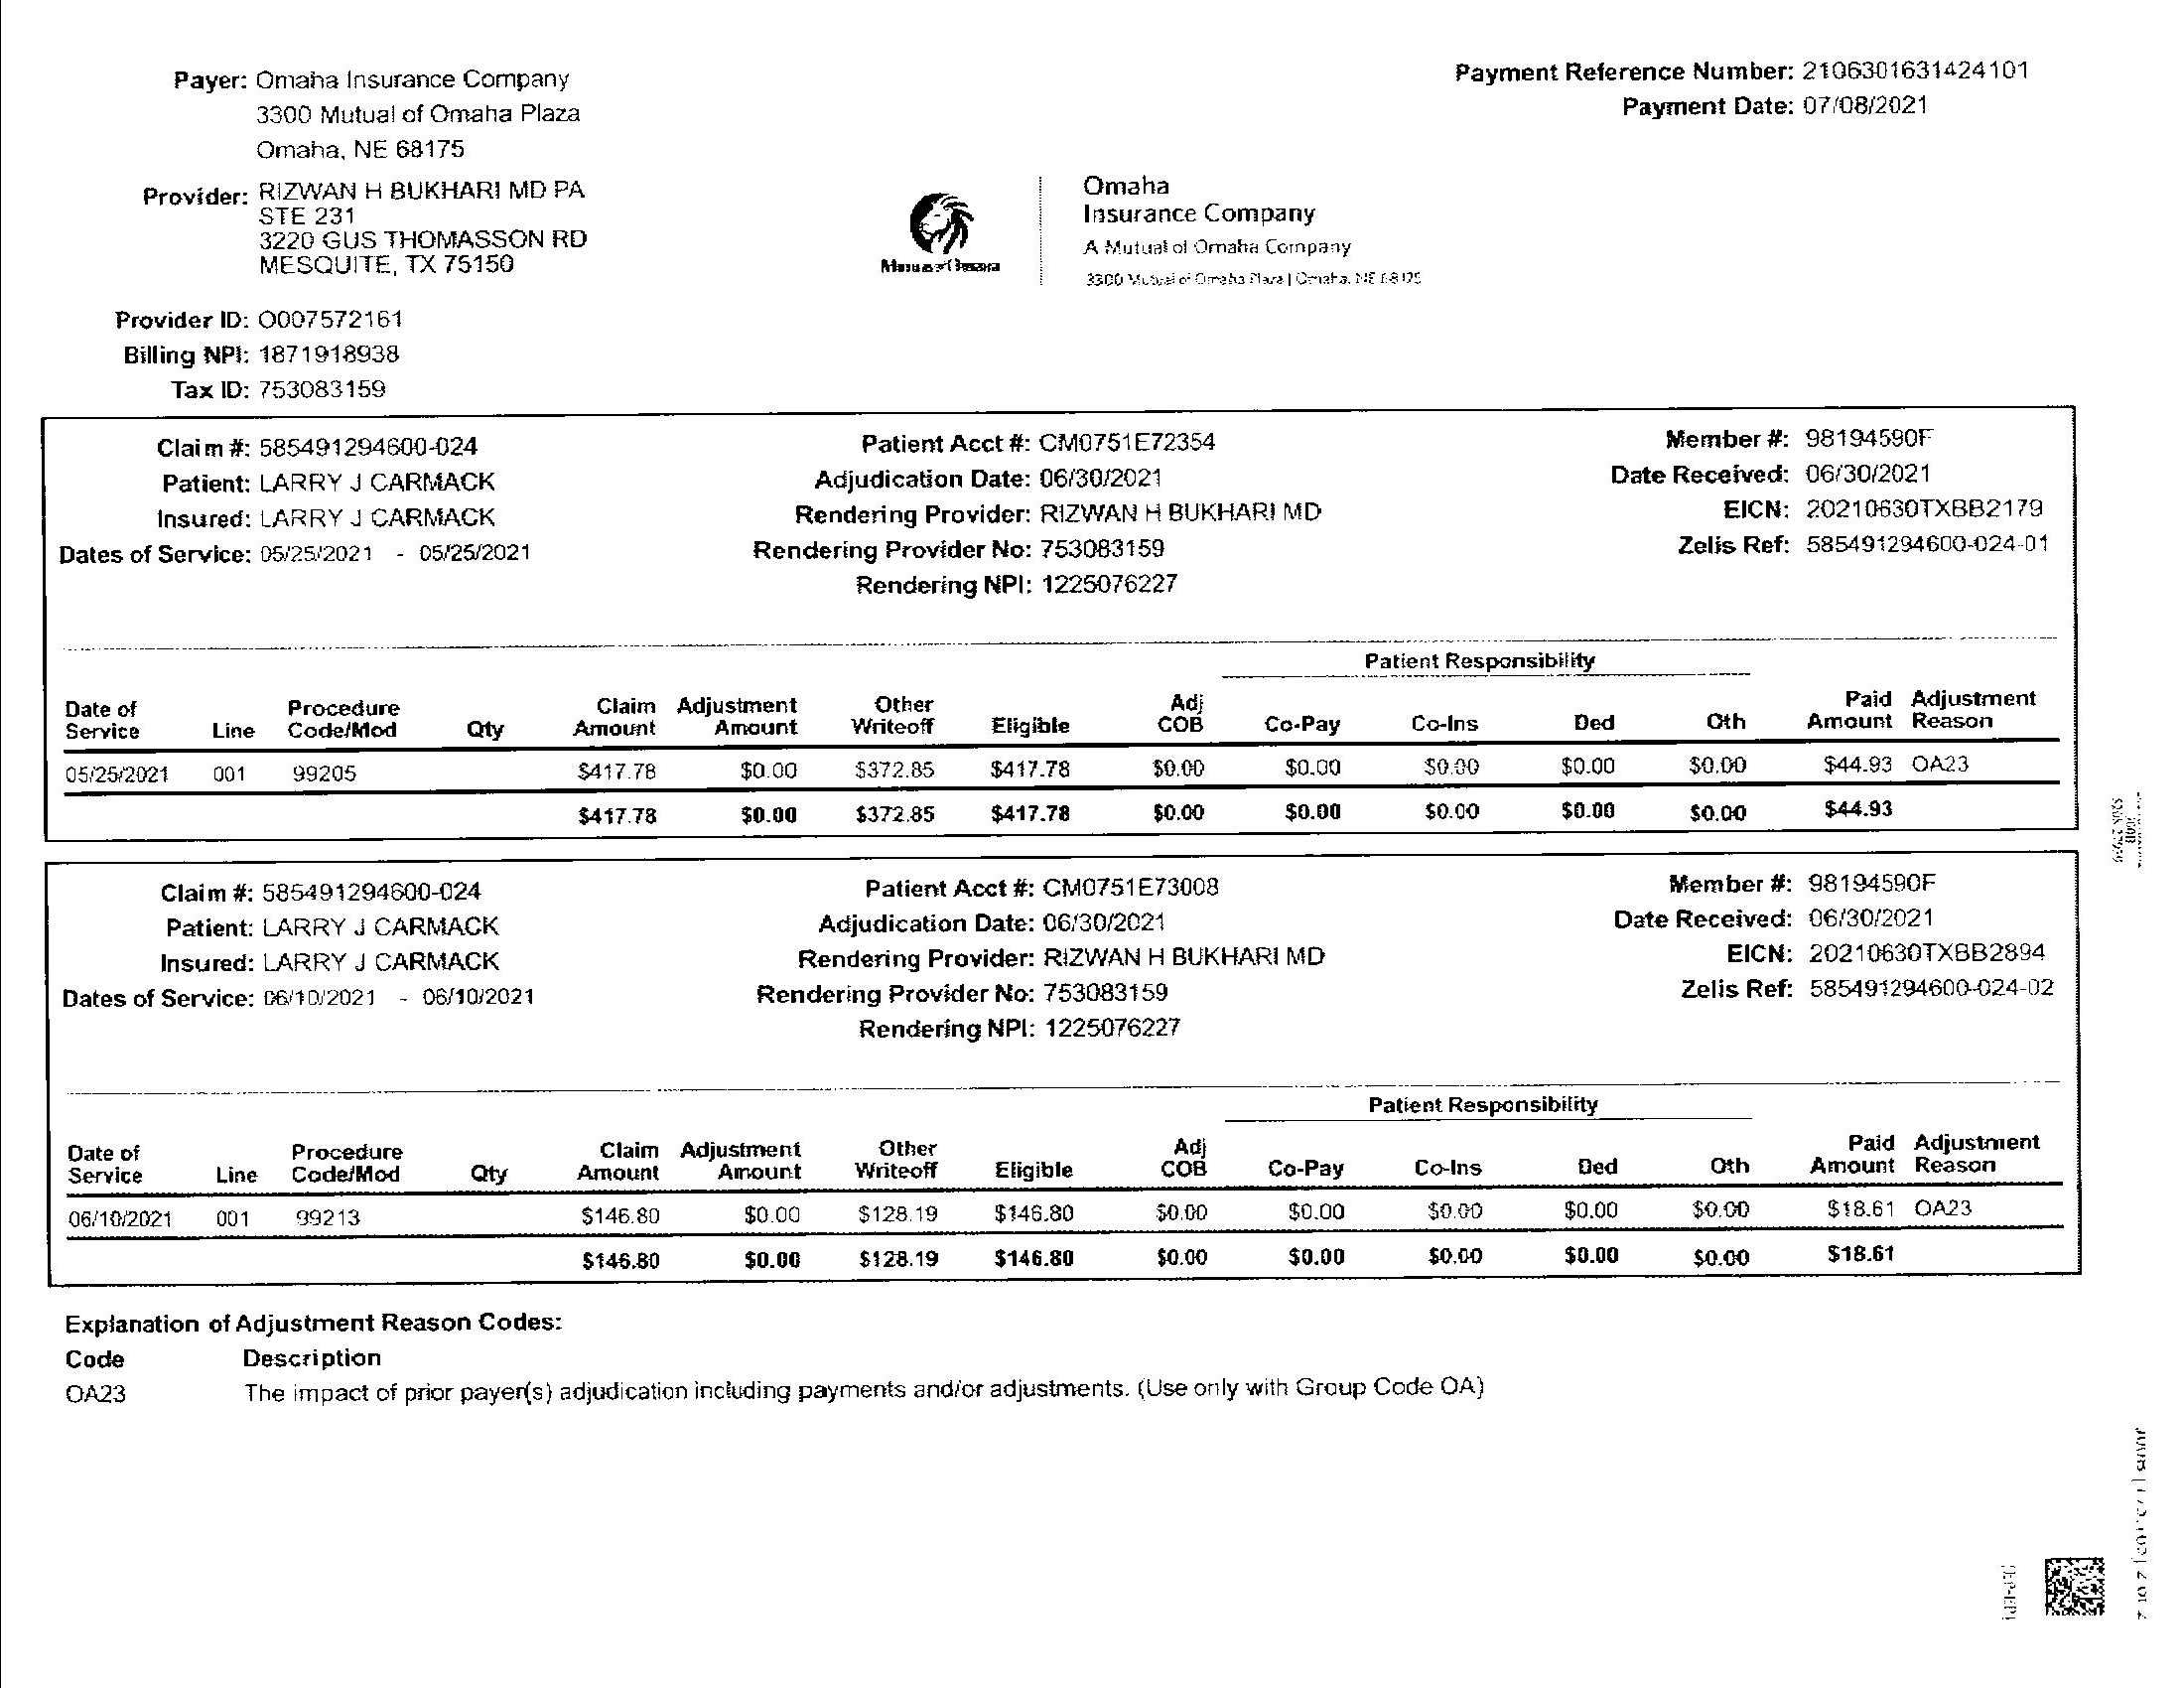data: (716, 422, 1335, 608), (725, 869, 1347, 1050), (1599, 413, 2065, 603), (55, 871, 557, 1023), (55, 426, 539, 583), (1608, 867, 2063, 1025), (158, 55, 592, 174), (1443, 48, 2037, 131), (142, 183, 590, 280), (103, 298, 408, 408)
table: (60, 1124, 2055, 1273), (51, 683, 2044, 823)
